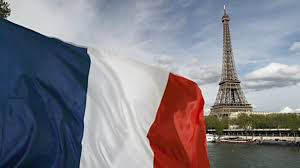French Flag: (1, 17, 209, 167)
